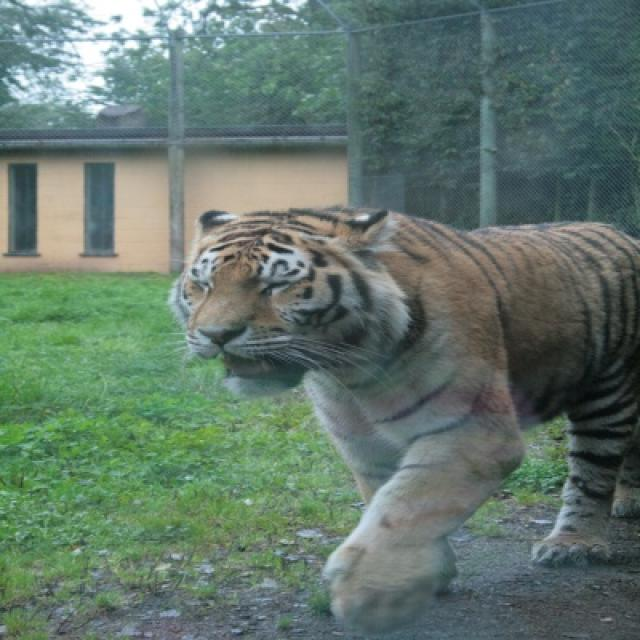Tiger: (170, 206, 638, 630)
